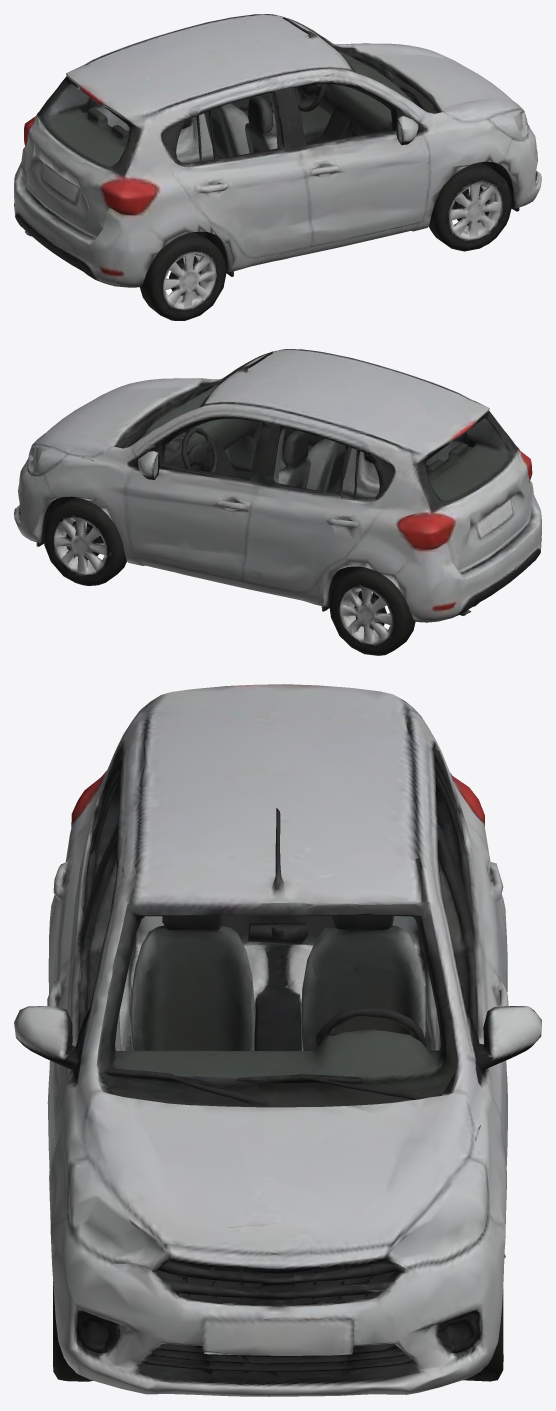
The model's file is car.glb.
3 views of the same model, one above another, from view 1: azimuth 30°, elevation 25°; view 2: azimuth 150°, elevation 25°; view 3: azimuth 270°, elevation 25° (orthographic). The views are drawn at different scales.
Parts seen in each view (by area): view 1: tripo_node_0b5fa6df-2f47-4c33-af6a-a03d85acd27b; view 2: tripo_node_0b5fa6df-2f47-4c33-af6a-a03d85acd27b; view 3: tripo_node_0b5fa6df-2f47-4c33-af6a-a03d85acd27b.
Part boxes in pixels (bbox=[...]): tripo_node_0b5fa6df-2f47-4c33-af6a-a03d85acd27b: bbox=[14, 14, 541, 320]; tripo_node_0b5fa6df-2f47-4c33-af6a-a03d85acd27b: bbox=[14, 349, 541, 655]; tripo_node_0b5fa6df-2f47-4c33-af6a-a03d85acd27b: bbox=[14, 684, 541, 1396].
Size of the model in its own units: 1 by 0.4624 by 0.5046.
1 material, 1 textured.
